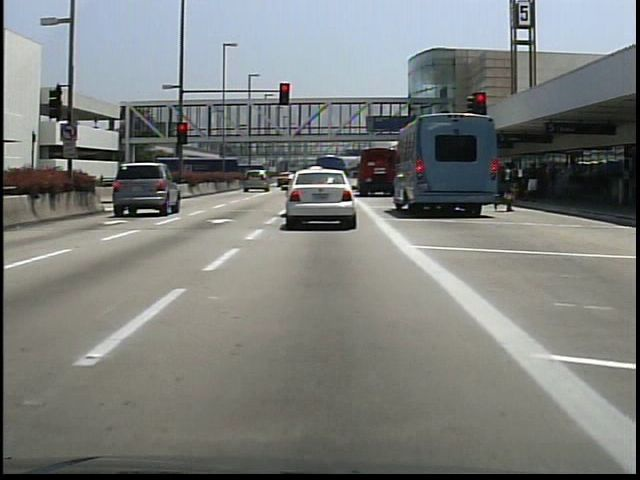person: (494, 155, 515, 216), (525, 157, 541, 203)
